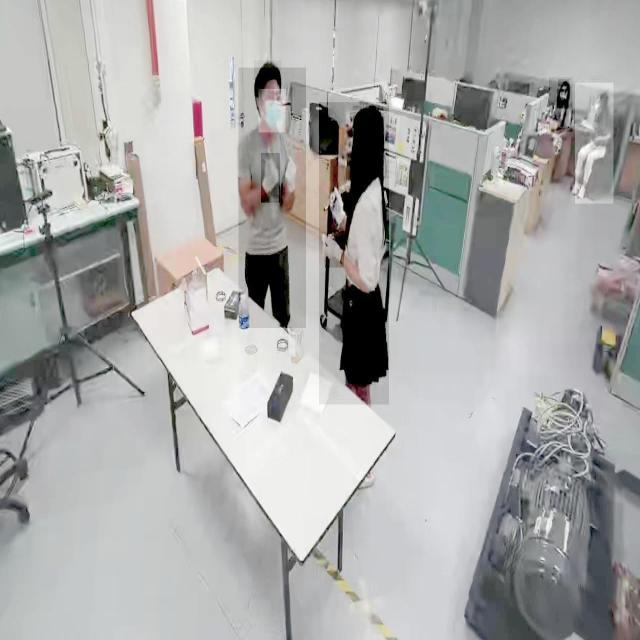gloves: (327, 182, 348, 230), (261, 153, 280, 203), (324, 235, 344, 268), (282, 159, 298, 200)
